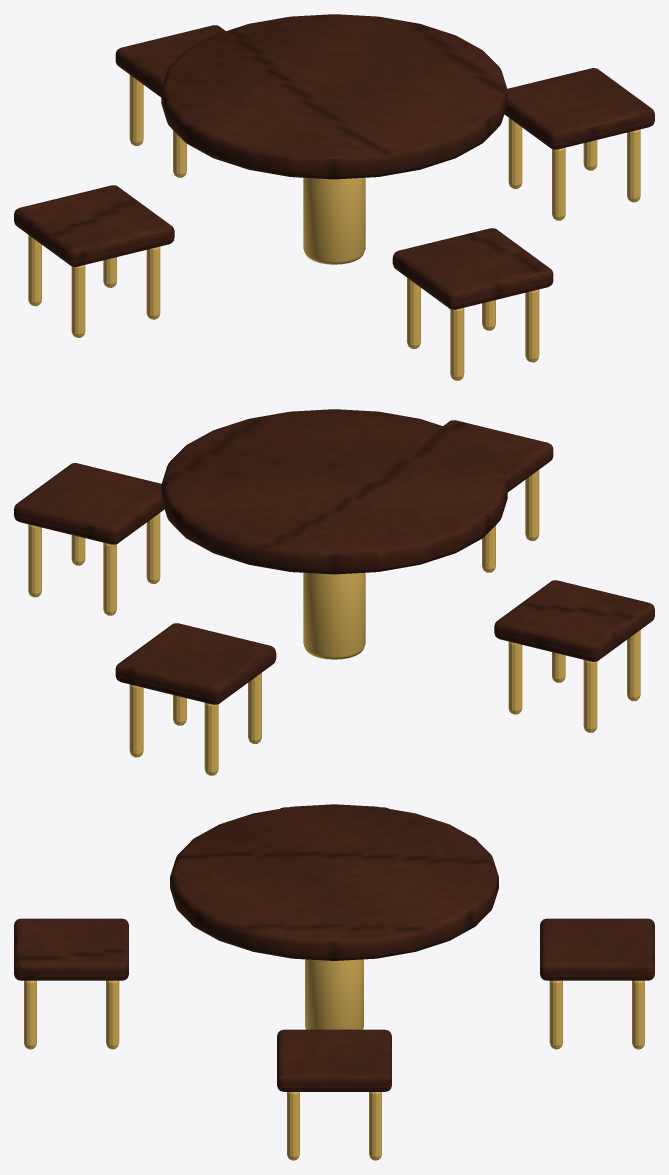
Rendered from fan-table.glb.
3 views of the same model, one above another, from view 1: azimuth 30°, elevation 25°; view 2: azimuth 150°, elevation 25°; view 3: azimuth 270°, elevation 25° (orthographic). The views are drawn at different scales.
Parts seen in each view (by area): view 1: Round tabletop, Table leg; view 2: Round tabletop, Table leg; view 3: Round tabletop, Table leg.
Boxes of the visible parts, x1,y1,x2,y2 form: Round tabletop: (14, 14, 654, 309); Table leg: (28, 75, 640, 380); Round tabletop: (14, 409, 654, 704); Table leg: (28, 470, 640, 775); Round tabletop: (14, 804, 654, 1091); Table leg: (24, 959, 644, 1160).
Size of the model in its own units: 3.9 by 1.08 by 3.9.
Materials: 2 (1 with a texture image).
